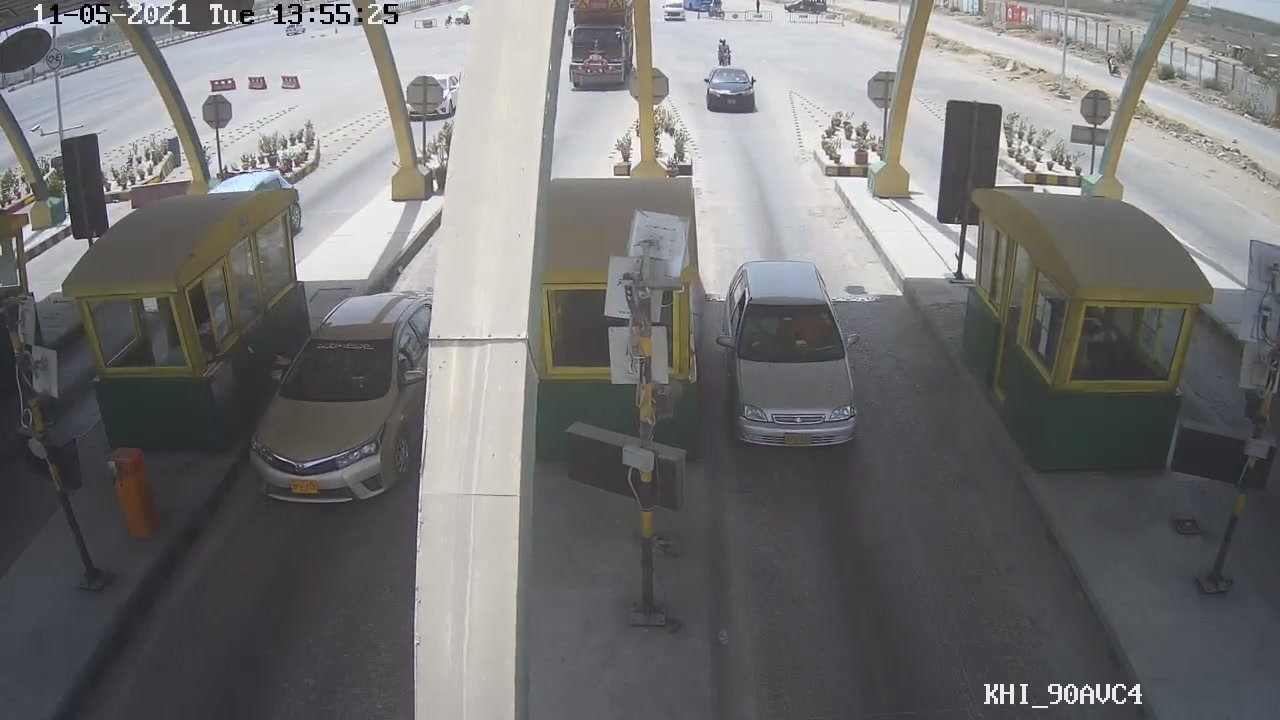F2: (721, 255, 863, 456)
